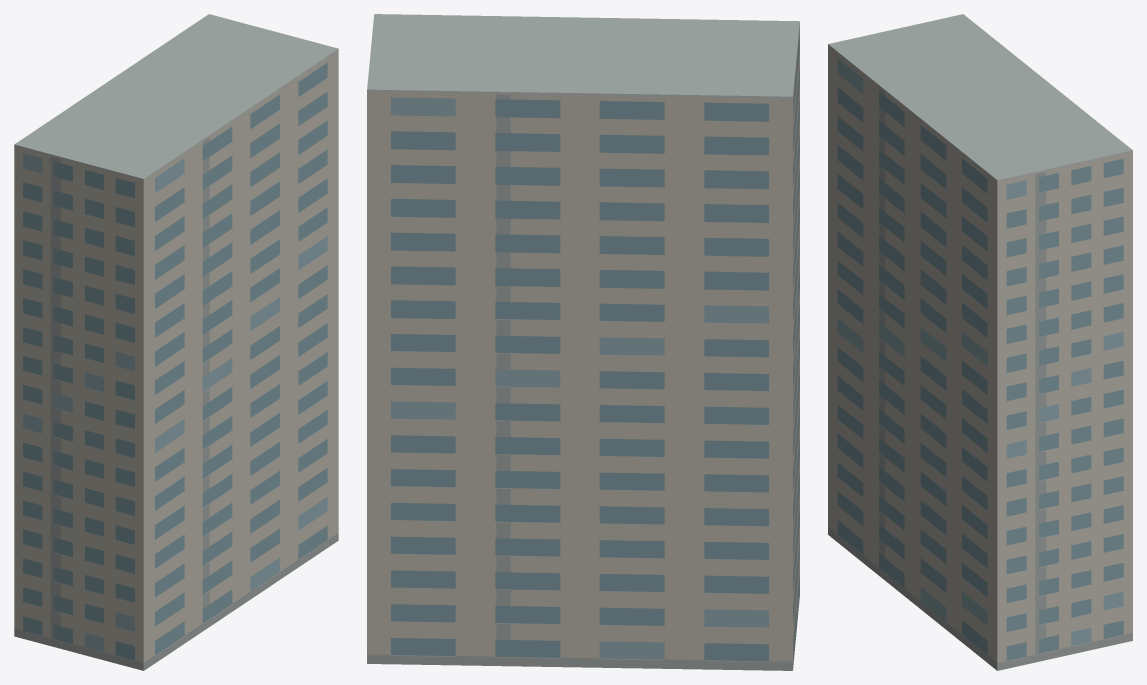
The model's file is residential-63ab1b22-c5fc-4ff8-96d1-2cc794cbc636.glb.
The picture shows the model from 3 angles, left to right: view 1: azimuth 30°, elevation 25°; view 2: azimuth 150°, elevation 25°; view 3: azimuth 270°, elevation 25°; orthographic projection. The views are drawn at different scales.
Parts seen in each view (by area): view 1: residential-63ab1b22-c5fc-4ff8-96d1-2cc794cbc636.tmp; view 2: residential-63ab1b22-c5fc-4ff8-96d1-2cc794cbc636.tmp; view 3: residential-63ab1b22-c5fc-4ff8-96d1-2cc794cbc636.tmp.
Part boxes in pixels (x1=…): residential-63ab1b22-c5fc-4ff8-96d1-2cc794cbc636.tmp: x1=14, y1=14, x2=338, y2=670; residential-63ab1b22-c5fc-4ff8-96d1-2cc794cbc636.tmp: x1=367, y1=14, x2=799, y2=670; residential-63ab1b22-c5fc-4ff8-96d1-2cc794cbc636.tmp: x1=828, y1=14, x2=1132, y2=670.
Size of the model in its own units: 38.52 by 53 by 29.84.
